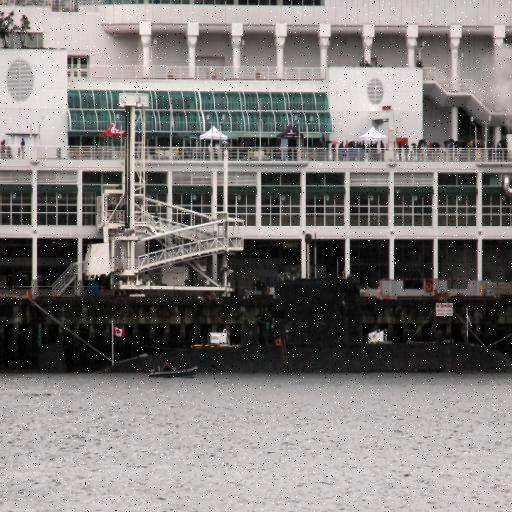submarine: (105, 277, 512, 373)
